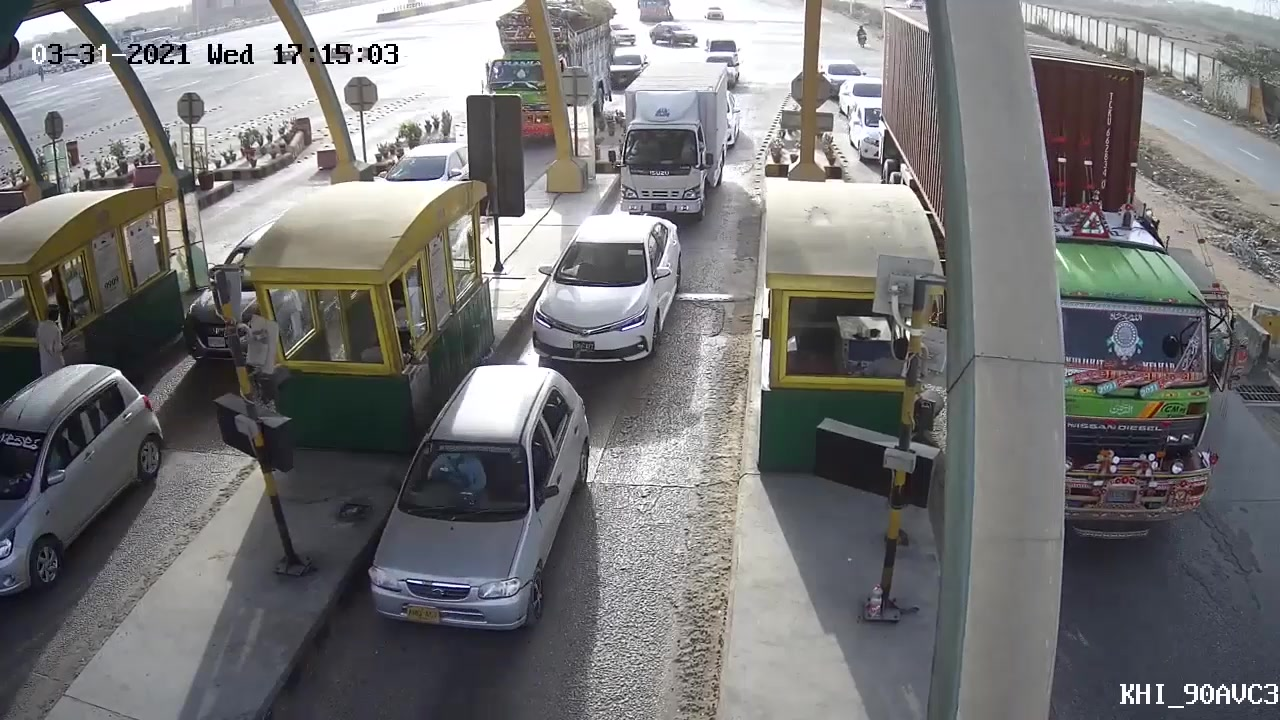F1: (365, 357, 589, 646), (536, 217, 685, 372)
F3: (618, 50, 734, 222)
